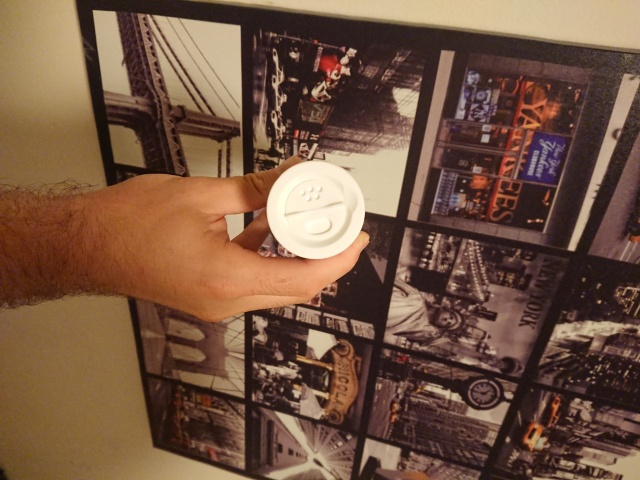Solana Pag Fine Sea Salt 250g: (264, 158, 368, 262)
